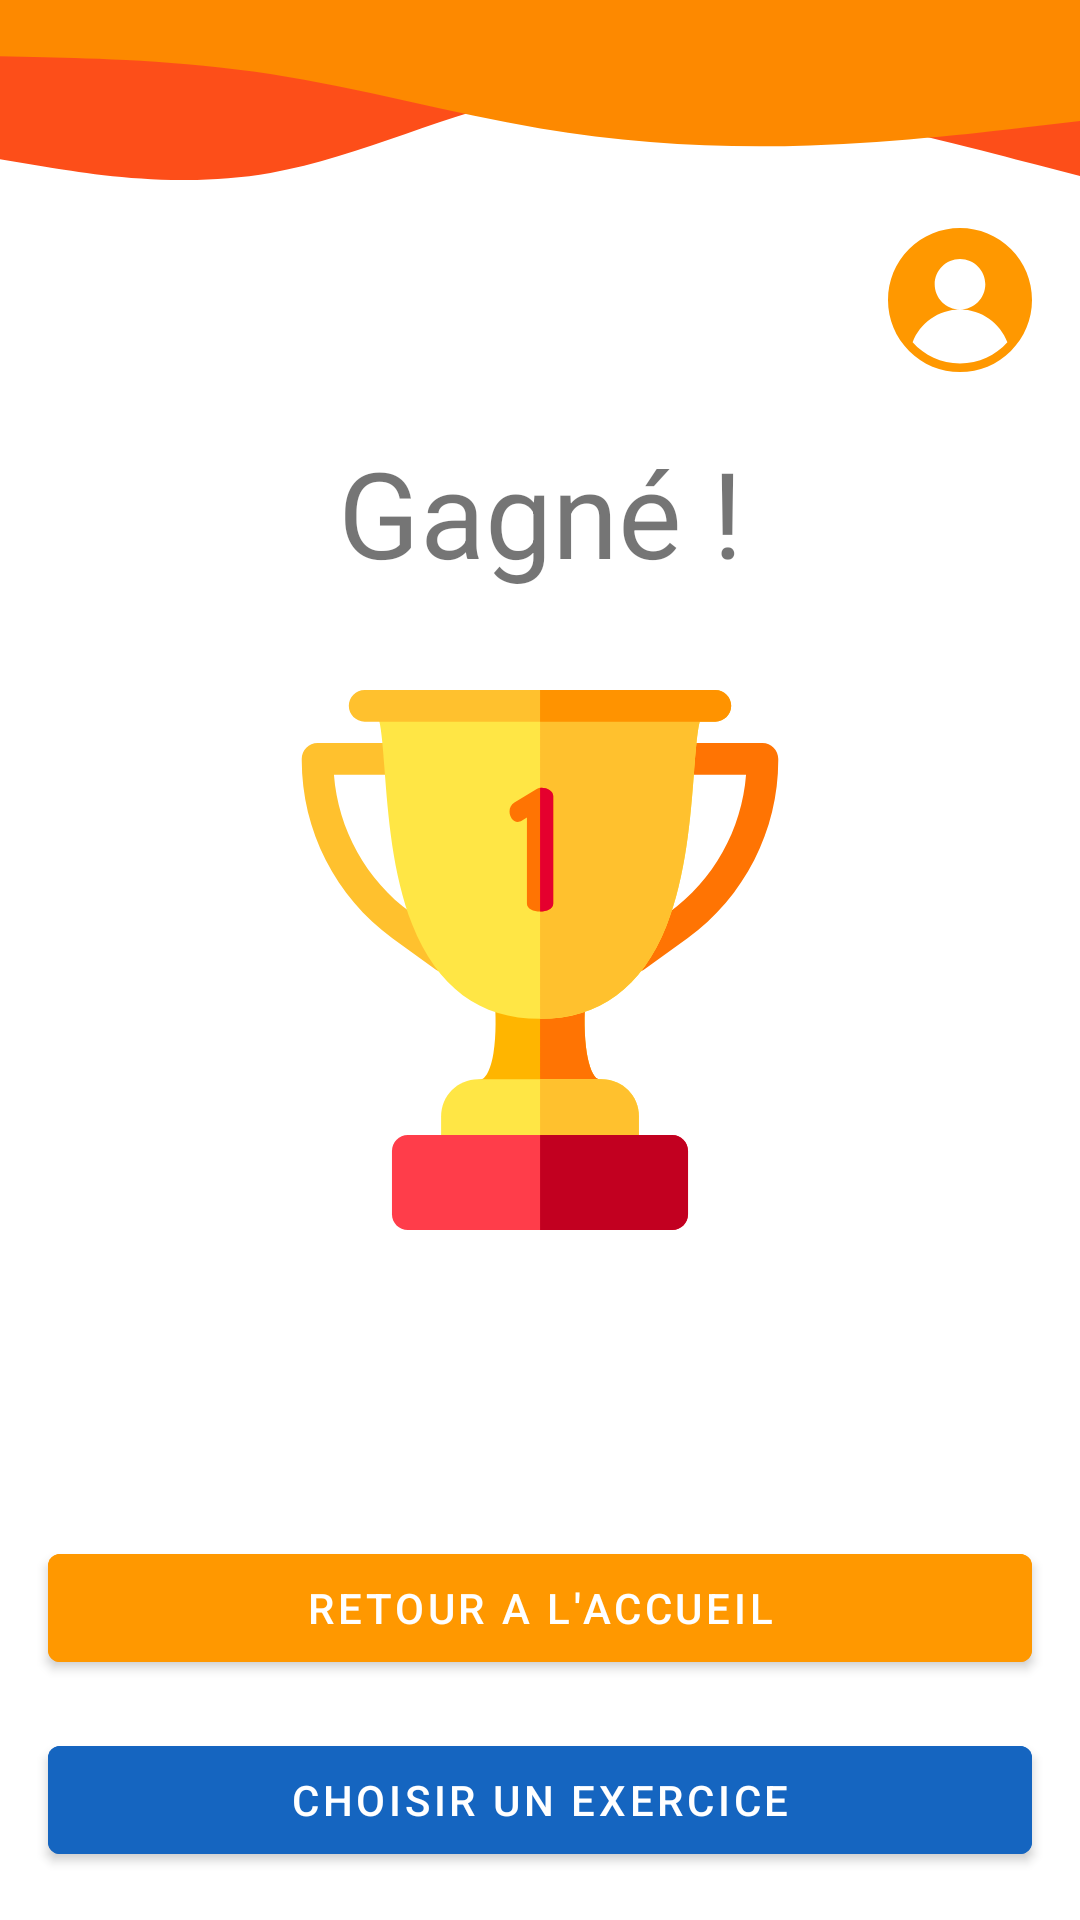

Screen size 1080*1920. Icon name, then its center in pixels as (x,y):
user: (960,300)
